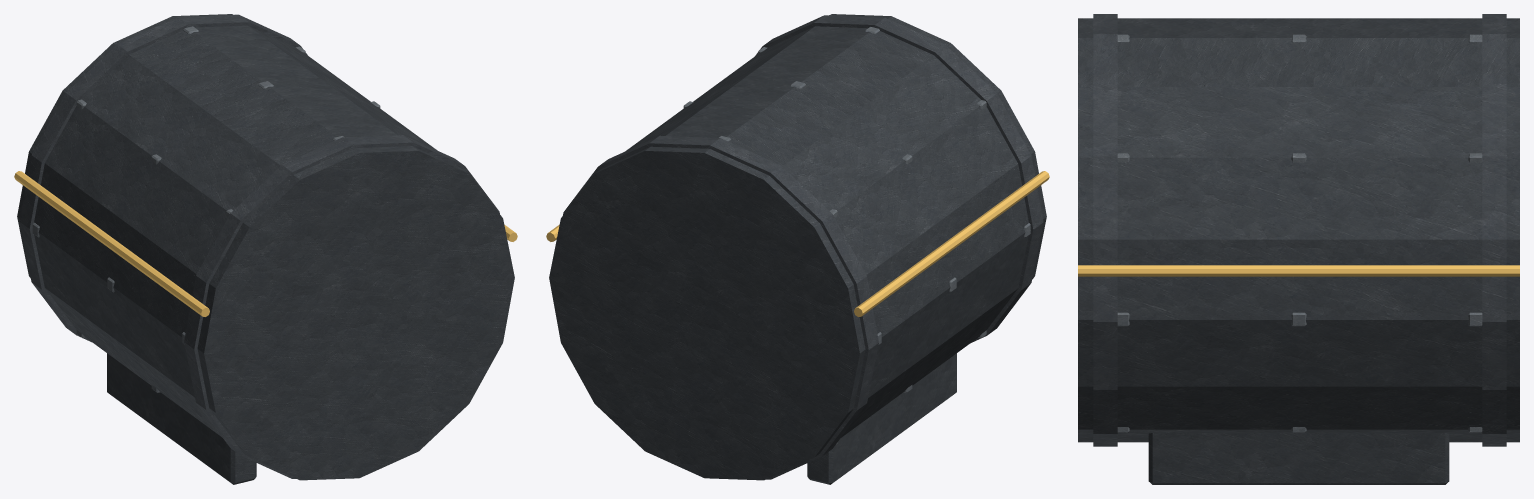
The model's file is train_smokebox_door.gltf.
3 renders of one model, left to right at view 1: azimuth 30°, elevation 25°; view 2: azimuth 150°, elevation 25°; view 3: azimuth 270°, elevation 25°, orthographic. The views are drawn at different scales.
Size of the model in its own units: 0.98 by 0.99 by 1.
Materials: 4 (3 with a texture image).
